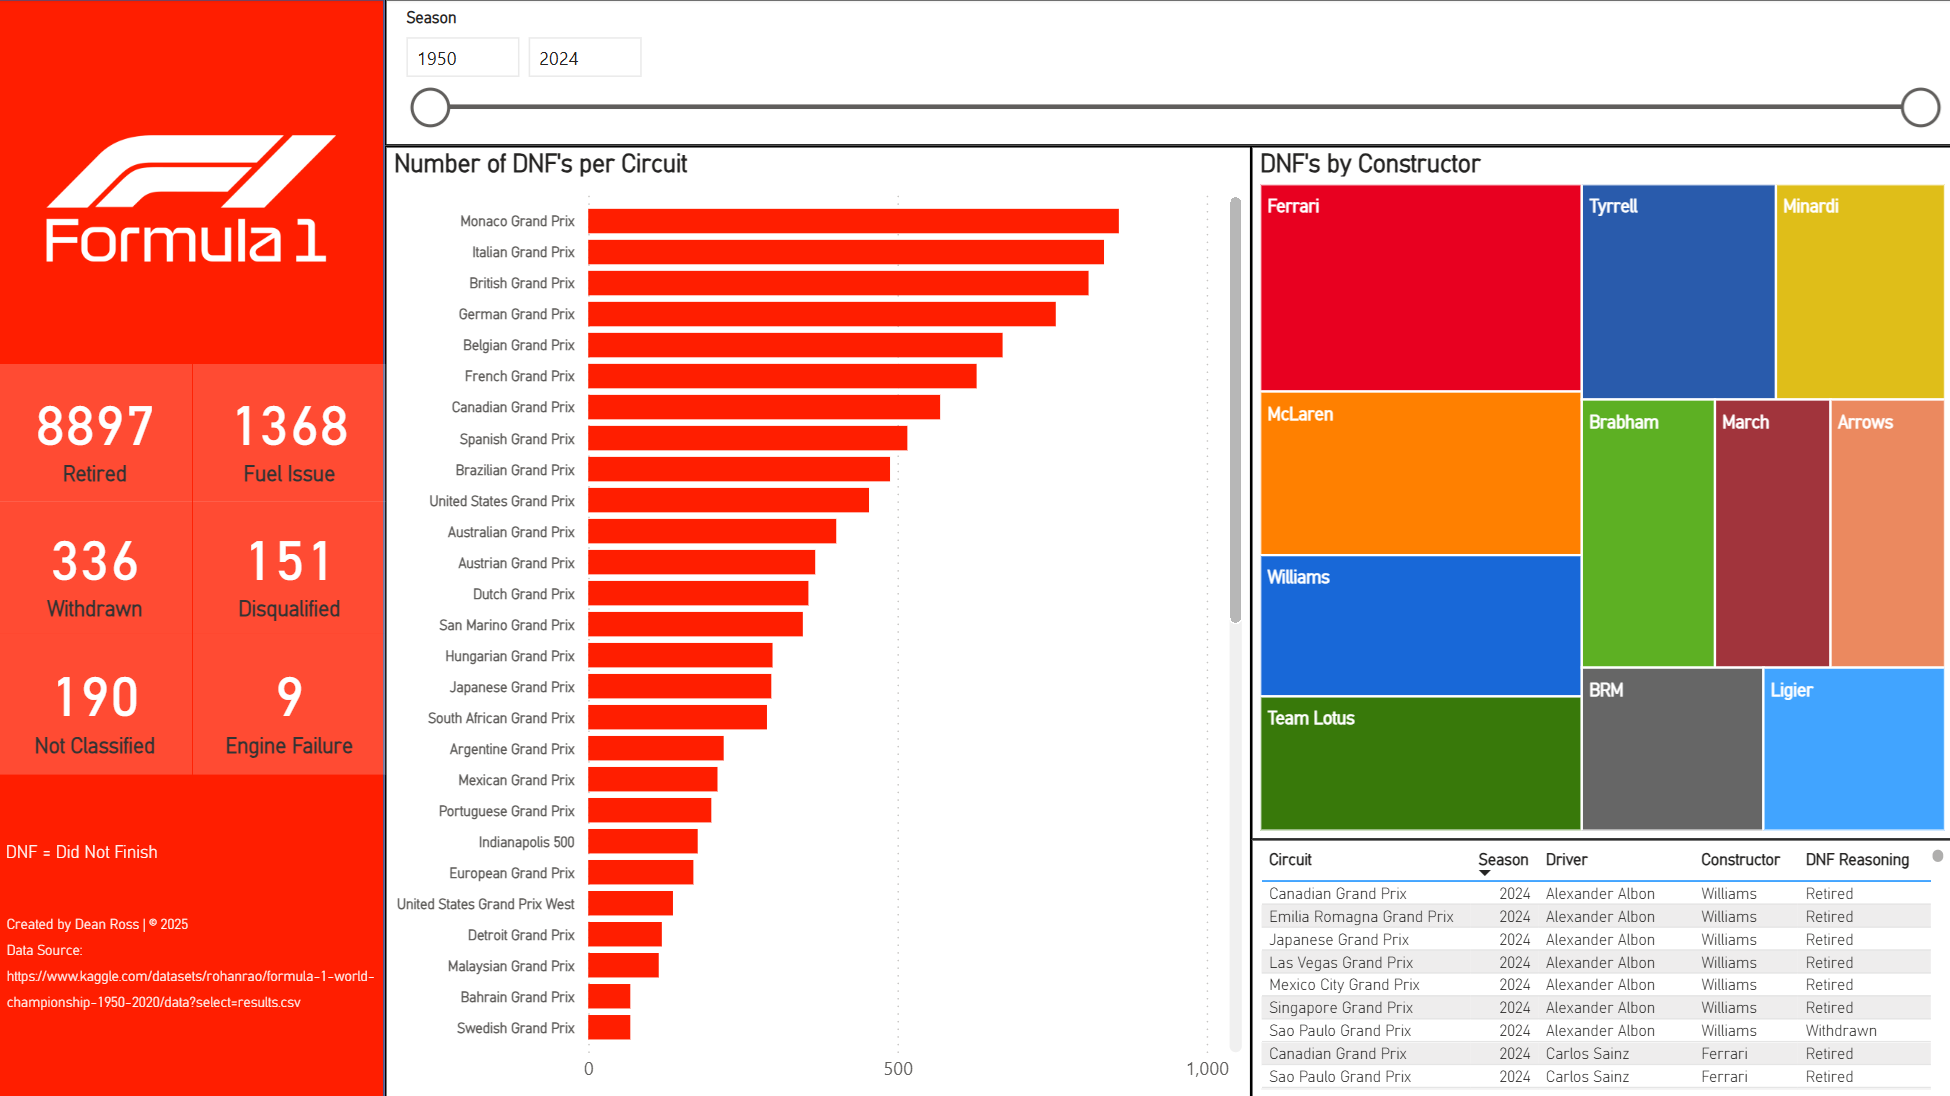

This screenshot's page, from the dashboard's own definition file:
{"tool":"powerbi","page":{"name":"Page 1","canvas":[1280,720],"ordinal":0},"visuals":[{"type":"shape","box":[0,0,253.1,719.7],"z":0},{"type":"image","box":[0,0,253.1,260.3],"z":1000},{"type":"slicer","fields":{"Values":["f1_data positions.season"]},"box":[253.1,0,1026.9,96.4],"z":2000},{"type":"barChart","title":"Number of DNF''s per Circuit","fields":{"Y":["CountNonNull(f1_data positions.IsDNF)"],"Category":["f1_data positions.race_name"]},"box":[253.1,96.4,566.7,623],"z":3000},{"type":"card","fields":{"Values":["f1_data positions.DQ"]},"box":[127.6,328.5,126.2,86.9],"z":4000},{"type":"card","fields":{"Values":["f1_data positions.EF"]},"box":[127.6,415.4,126.2,91.6],"z":5000},{"type":"card","fields":{"Values":["f1_data positions.FI"]},"box":[127.6,238.9,126.2,89.6],"z":6000},{"type":"card","fields":{"Values":["f1_data positions.NA"]},"box":[0,415.4,126.9,91.6],"z":7000},{"type":"card","fields":{"Values":["f1_data positions.WD"]},"box":[0,328.5,126.9,86.9],"z":8000},{"type":"card","fields":{"Values":["f1_data positions.RT"]},"box":[0,238.9,126.9,89.6],"z":9000},{"type":"tableEx","fields":{"Values":["f1_data positions.race_name","f1_data positions.season","f1_data positions.drivers_name","f1_data positions.constructors_name","f1_data positions.DNF Reasoning"]},"box":[819.9,549.7,460.1,169.7],"z":10000},{"type":"treemap","title":"DNF''s by Constructor","fields":{"Group":["f1_data positions.constructors_name"],"Values":["CountNonNull(f1_data positions.IsDNF)"]},"box":[819.9,96.4,460.1,454],"z":11000},{"type":"textbox","box":[0.7,589.8,253.1,130.3],"z":11001},{"type":"textbox","box":[0,542.9,154.7,27.1],"z":11002}]}

Visuals, with their boxes in screenshot pixels (x1, y1, x2, y2), scaled from the page's 1280x720 canvas onto the 1950x1096 screenshot:
shape: bbox(0, 0, 386, 1095)
image: bbox(0, 0, 386, 396)
slicer - f1_data positions.season: bbox(386, 0, 1949, 147)
"Number of DNF''s per Circuit" barChart: bbox(386, 147, 1249, 1095)
card - f1_data positions.DQ: bbox(194, 500, 387, 632)
card - f1_data positions.EF: bbox(194, 632, 387, 772)
card - f1_data positions.FI: bbox(194, 364, 387, 500)
card - f1_data positions.NA: bbox(0, 632, 193, 772)
card - f1_data positions.WD: bbox(0, 500, 193, 632)
card - f1_data positions.RT: bbox(0, 364, 193, 500)
tableEx - f1_data positions.race_name x f1_data positions.season: bbox(1249, 837, 1949, 1095)
"DNF''s by Constructor" treemap: bbox(1249, 147, 1949, 838)
textbox: bbox(1, 898, 387, 1095)
textbox: bbox(0, 826, 236, 868)
